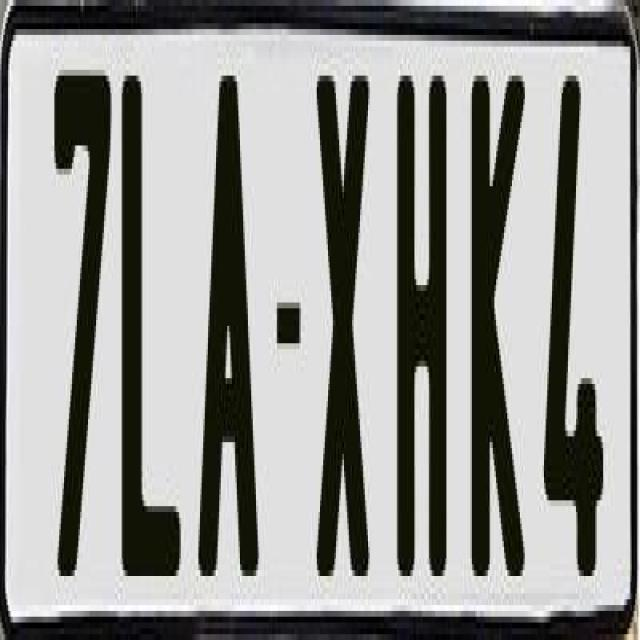4: (540, 64, 604, 570)
7: (53, 58, 114, 570)
A: (195, 76, 264, 582)
H: (394, 58, 446, 582)
K: (467, 58, 522, 588)
L: (121, 64, 180, 582)
X: (314, 76, 372, 576)
